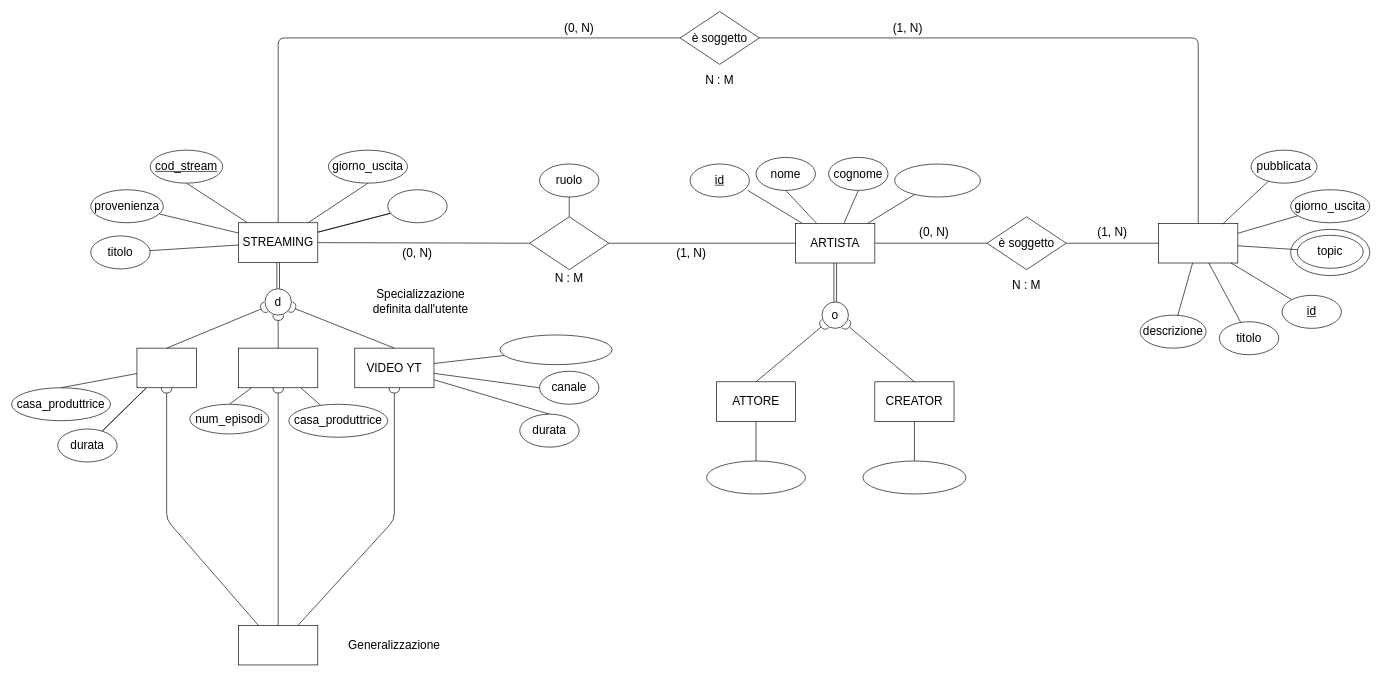
This 1381x677 diagram has some shape labels left out. The centre of each missing label's shape, as x and y in pixels:
"COREA" belongs at (x=278, y=645).
"data_nascita" belongs at (x=937, y=180).
"FILM" belongs at (x=166, y=367).
"genere" belongs at (x=417, y=206).
"NOTIZIA" belongs at (x=1198, y=243).
"numero_follower" belongs at (x=914, y=477).
"partecipa" belongs at (x=569, y=243).
"SERIE TV" belongs at (x=278, y=367).
"stipendio_annuo" belongs at (x=756, y=477).
"utente_proprietario" belongs at (x=555, y=349).
